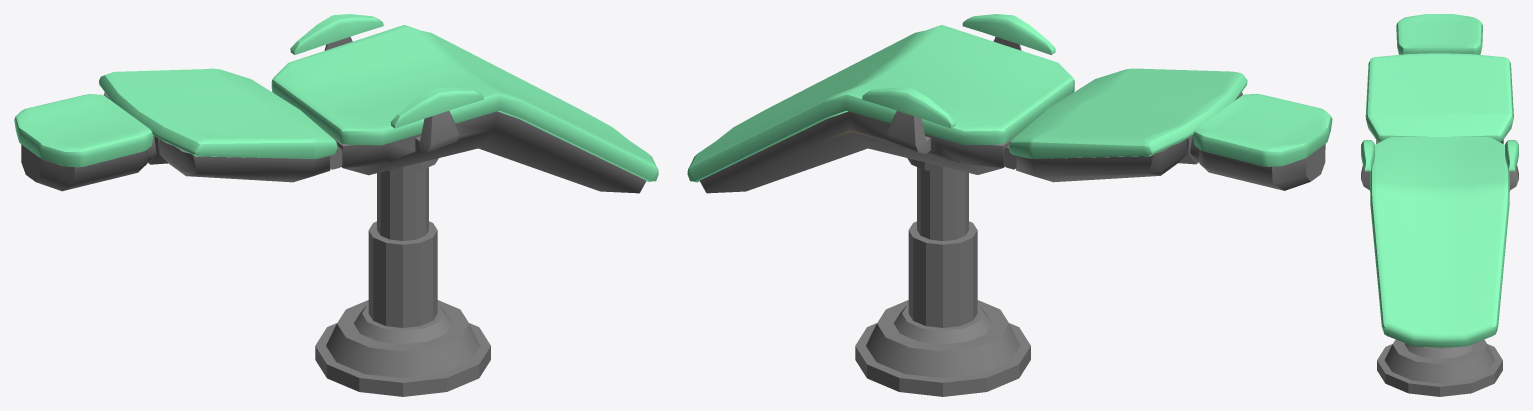
The model's file is Bed.fbx.
3 renders of one model, left to right at view 1: azimuth 30°, elevation 25°; view 2: azimuth 150°, elevation 25°; view 3: azimuth 270°, elevation 25°, orthographic. The views are drawn at different scales.
Visible parts, largest first — view 1: pCube10, pCylinder3, pCube12, pCube5, pCube13, pCube11, pCylinder2, pCube14; view 2: pCube10, pCylinder3, pCube12, pCube5, pCube13, pCube11, pCylinder2, pCube14; view 3: pCube10, pCube12, pCylinder3, pCube13, pCube14, pCube5.
Boxes of the visible parts, left/top/right/bottom form: pCube10: left=271, top=25, right=658, bottom=182; pCylinder3: left=315, top=221, right=490, bottom=396; pCube12: left=99, top=68, right=337, bottom=158; pCube5: left=324, top=36, right=646, bottom=193; pCube13: left=14, top=94, right=153, bottom=167; pCube11: left=21, top=92, right=330, bottom=191; pCylinder2: left=377, top=158, right=438, bottom=240; pCube14: left=290, top=14, right=483, bottom=128; pCube10: left=687, top=25, right=1074, bottom=182; pCylinder3: left=855, top=221, right=1030, bottom=396; pCube12: left=1008, top=68, right=1247, bottom=158; pCube5: left=700, top=37, right=1021, bottom=193; pCube13: left=1193, top=94, right=1332, bottom=166; pCube11: left=1016, top=92, right=1325, bottom=190; pCylinder2: left=907, top=158, right=968, bottom=240; pCube14: left=862, top=14, right=1055, bottom=128; pCube10: left=1370, top=137, right=1509, bottom=347; pCube12: left=1365, top=53, right=1513, bottom=142; pCylinder3: left=1377, top=339, right=1502, bottom=396; pCube13: left=1396, top=14, right=1482, bottom=54; pCube14: left=1361, top=140, right=1518, bottom=171; pCube5: left=1361, top=165, right=1518, bottom=336.
Bounding box in the file's own units: 194 × 96.65 × 60.84.
